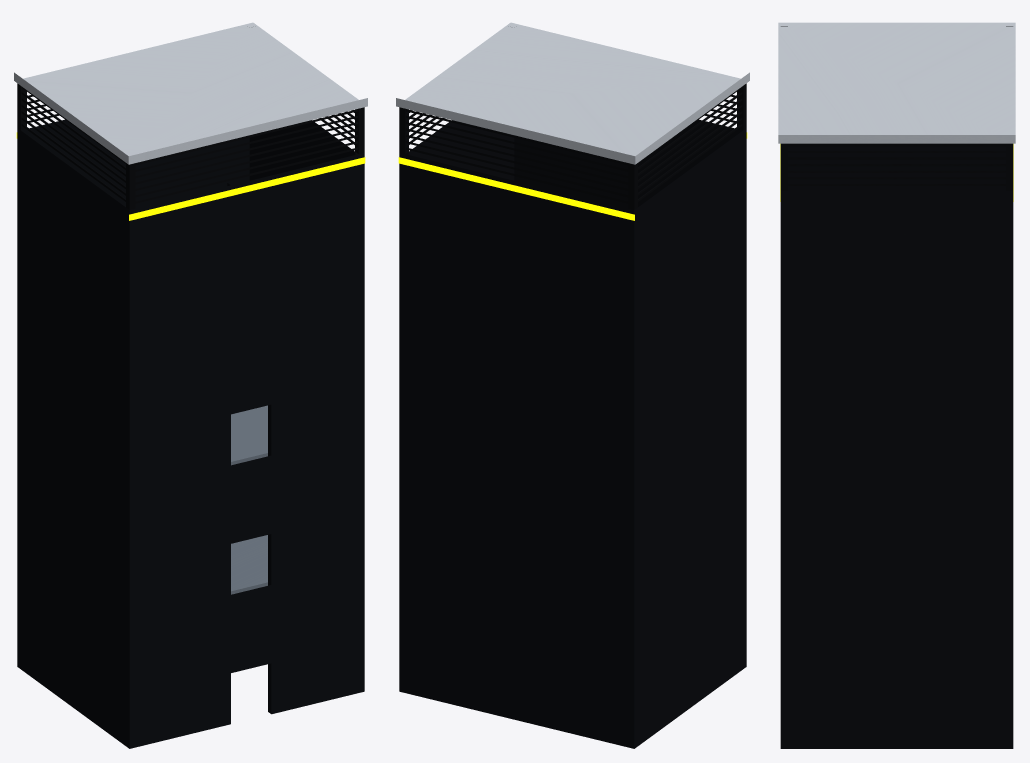
File: tt_struct_plant_stack.glb
3 views of the same model, side by side, from view 1: azimuth 30°, elevation 25°; view 2: azimuth 150°, elevation 25°; view 3: azimuth 270°, elevation 25° (orthographic). The views are drawn at different scales.
Parts seen in each view (by area): view 1: Stack_Walls, Cap_Slab, Louvre_Blades, Stack_Gratings, Hazard_Band; view 2: Stack_Walls, Cap_Slab, Louvre_Blades, Hazard_Band; view 3: Stack_Walls, Cap_Slab, Louvre_Blades.
Boxes of the visible parts, x1=… form: Stack_Walls: x1=17, y1=119, x2=364, y2=748; Cap_Slab: x1=14, y1=22, x2=367, y2=164; Louvre_Blades: x1=17, y1=83, x2=364, y2=209; Stack_Gratings: x1=231, y1=405, x2=267, y2=594; Hazard_Band: x1=16, y1=132, x2=365, y2=220; Stack_Walls: x1=399, y1=119, x2=746, y2=748; Cap_Slab: x1=396, y1=22, x2=749, y2=164; Louvre_Blades: x1=399, y1=83, x2=746, y2=209; Hazard_Band: x1=398, y1=132, x2=747, y2=220; Stack_Walls: x1=780, y1=143, x2=1013, y2=748; Cap_Slab: x1=778, y1=22, x2=1015, y2=143; Louvre_Blades: x1=780, y1=26, x2=1013, y2=190.
Size of what is drawn, in the model's own units: 11.8 by 28 by 9.8.
5 materials, 4 textured.
